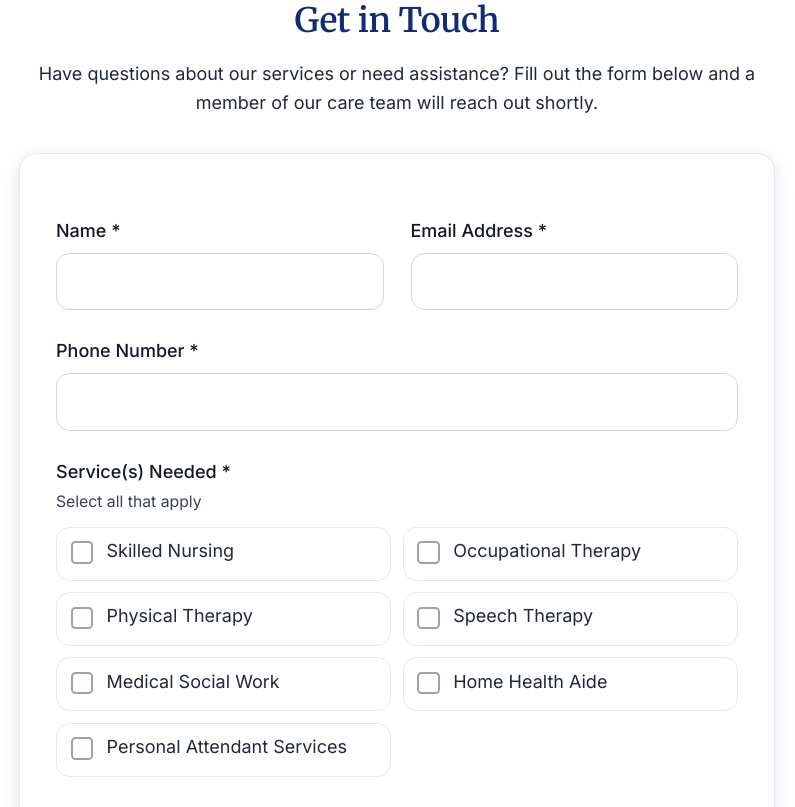
it: a bad email and a short phone number get specific messages
Step 1. Type "Pat" into the field labelled "Name *" → (220, 281), box [56,252,384,310]
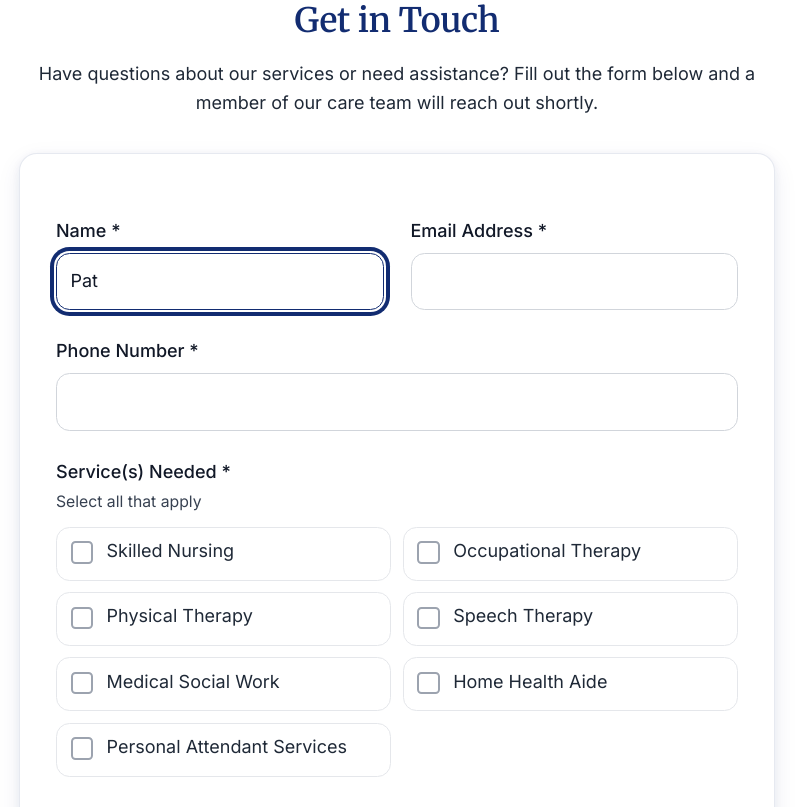
Step 2. Type "not-an-email" into the field labelled "Email Address *" → (574, 281), box [410,252,738,310]
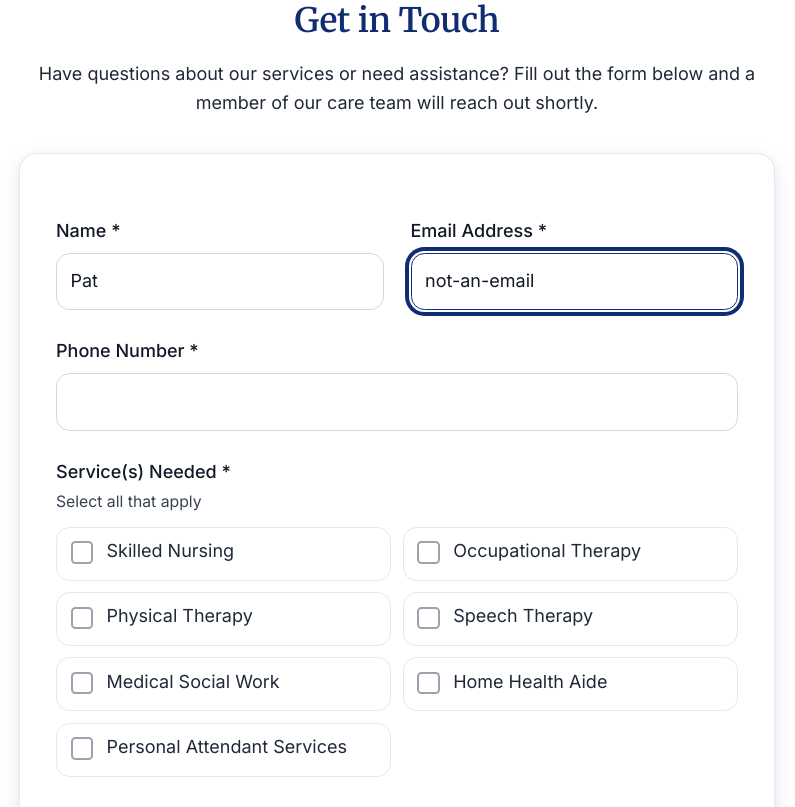
Step 3. Type "555-1234" into the field labelled "Phone Number *" → (397, 402), box [56,373,738,431]
(page scrolled)
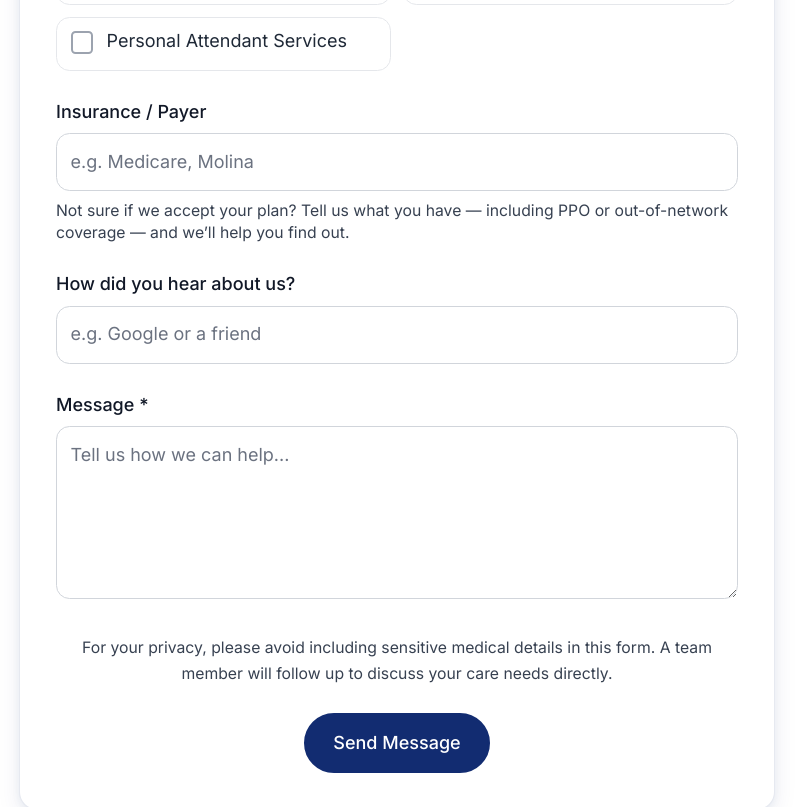
Step 4. Click the button "Send Message" → (397, 743), box [304,713,490,773]
(page scrolled)
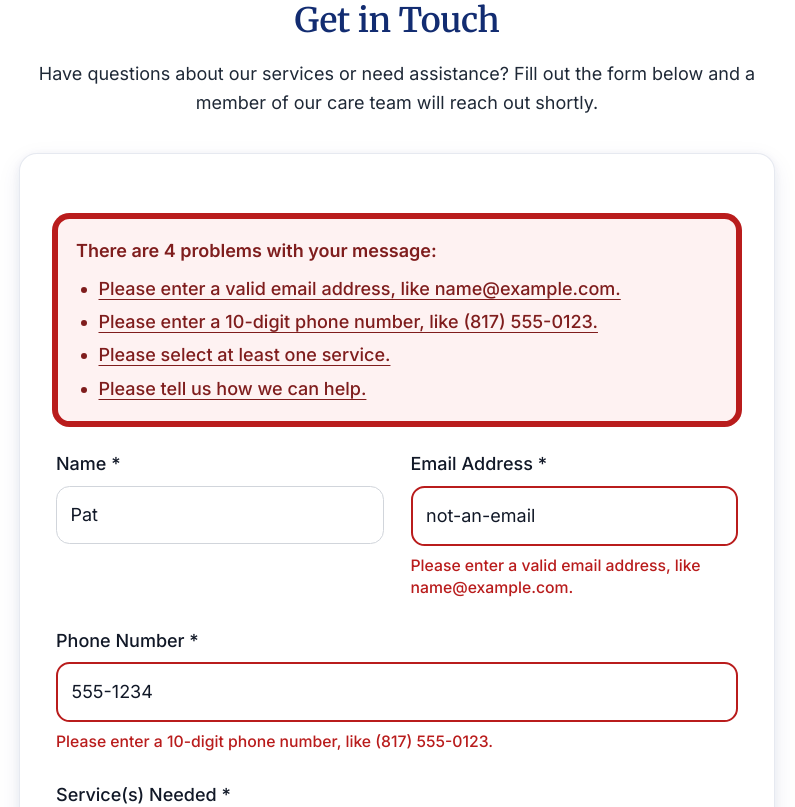
Check: the link "Please enter a valid email address, like name@example.com." is shown, box [98,278,621,299]
Check: the link "Please enter a 10-digit phone number, like (817) 555-0123." is shown, box [98,311,598,332]
